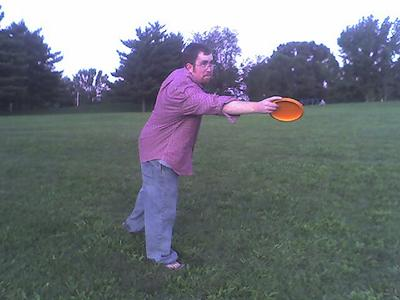person: (122, 42, 285, 270)
